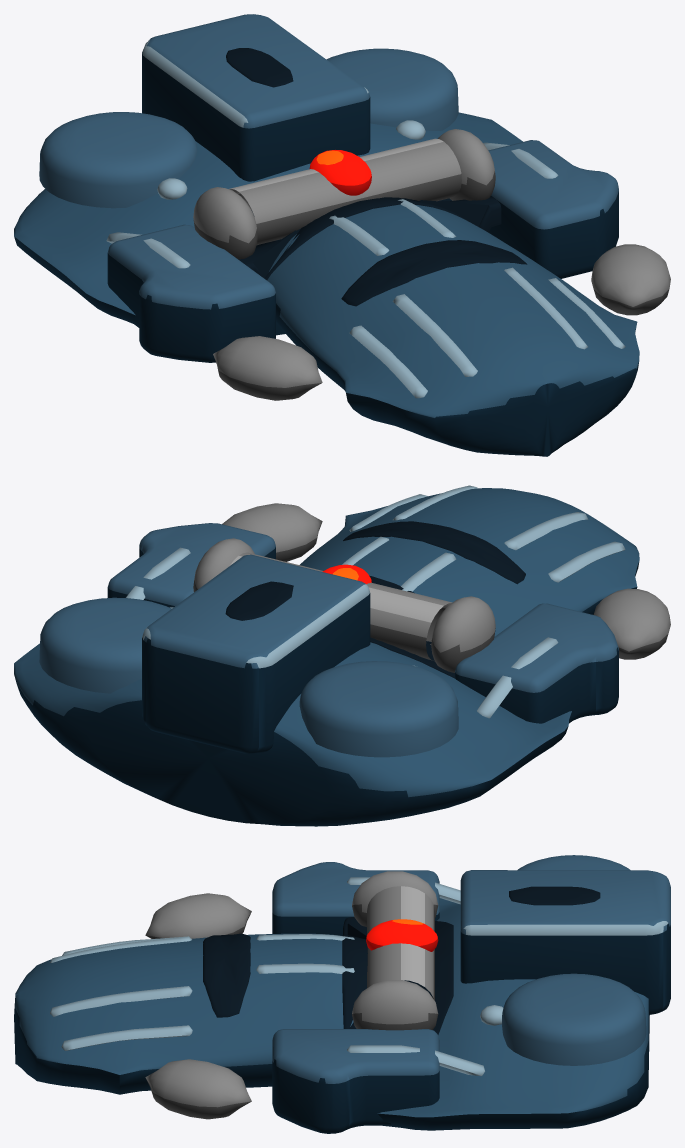
File: robot_head.glb
3 renders of one model, top to bottom at view 1: azimuth 30°, elevation 25°; view 2: azimuth 150°, elevation 25°; view 3: azimuth 270°, elevation 25°, orthographic. The views are drawn at different scales.
Visible parts, largest first — view 1: jaw, crest, cheek_l, helmet, cheek_r, pad_l, visor, pad_r, hinge_l, mouth, hinge_r, socket (+10 smaller); view 2: helmet, crest, jaw, cheek_l, pad_l, pad_r, cheek_r, visor, hinge_l, visor_capl, mouth, hinge_r (+10 smaller); view 3: jaw, crest, helmet, cheek_r, pad_r, cheek_l, visor, hinge_r, socket, hinge_l, visor_capr, mouth (+11 smaller).
Part boxes in pixels (box(x1,y1,x2,y2)): jaw: box(267, 204, 639, 456); crest: box(142, 14, 370, 181); cheek_l: box(107, 224, 275, 362); helmet: box(14, 112, 522, 335); cheek_r: box(488, 140, 618, 278); pad_l: box(39, 112, 197, 208); visor: box(229, 138, 461, 244); pad_r: box(326, 48, 458, 130); hinge_l: box(213, 336, 322, 400); mouth: box(341, 240, 527, 306); hinge_r: box(591, 244, 670, 315); socket: box(238, 196, 501, 280); helmet: box(14, 642, 571, 826); crest: box(142, 554, 370, 753); jaw: box(300, 488, 639, 636); cheek_l: box(455, 603, 618, 723); pad_l: box(299, 661, 458, 757); pad_r: box(39, 597, 171, 693); cheek_r: box(107, 523, 275, 607); visor: box(230, 552, 452, 660); hinge_l: box(593, 588, 670, 659); visor_capl: box(431, 596, 495, 672); mouth: box(343, 521, 525, 584); hinge_r: box(222, 503, 322, 561); jaw: box(14, 933, 353, 1094); crest: box(460, 870, 670, 1014); helmet: box(377, 898, 649, 1130); cheek_r: box(272, 1029, 439, 1133); pad_r: box(502, 973, 646, 1065); cheek_l: box(272, 862, 439, 935); visor: box(367, 886, 434, 1000); hinge_r: box(145, 1059, 251, 1119); socket: box(342, 917, 453, 1034); hinge_l: box(145, 893, 251, 938); visor_capr: box(352, 980, 438, 1030); mouth: box(203, 933, 250, 1017).
Bounding box in the file's own units: 22.2 × 7.96 × 28.1.
